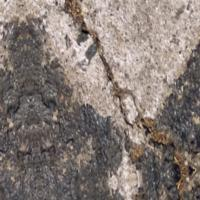crack: (71, 3, 172, 117)
